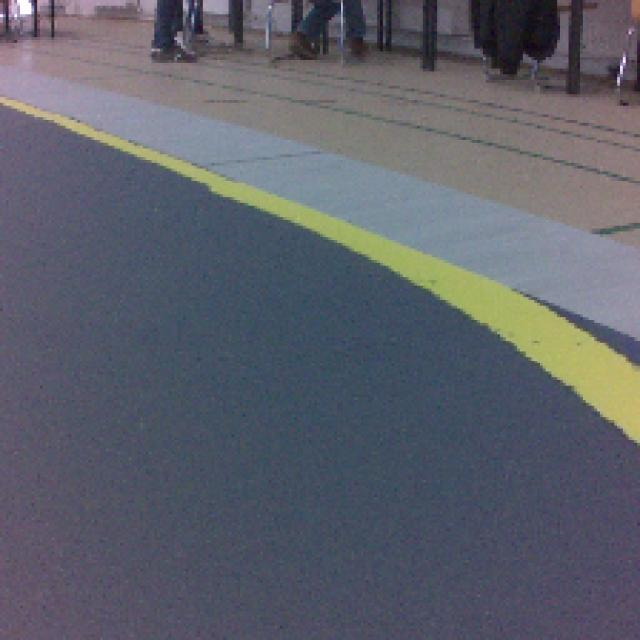Road: (0, 401, 639, 640)
